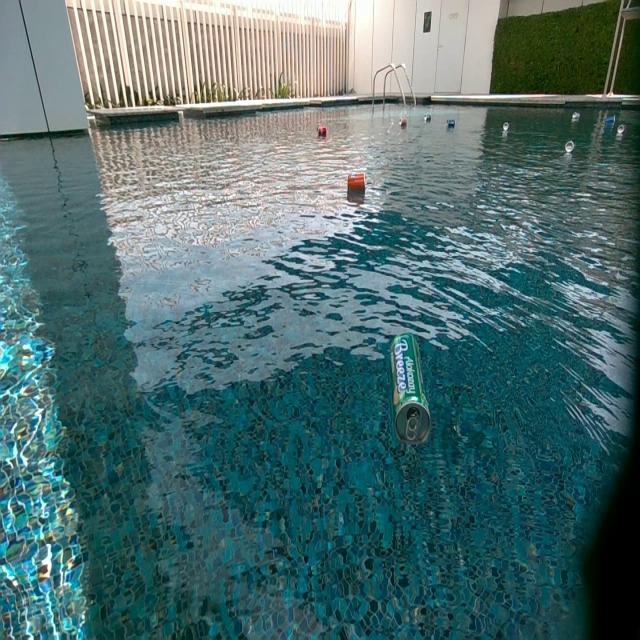Cans: (394, 329, 435, 449), (348, 172, 366, 190), (318, 125, 327, 139), (617, 126, 628, 137), (604, 116, 616, 126), (398, 117, 407, 129), (565, 140, 574, 152), (447, 117, 456, 128), (571, 110, 579, 122), (423, 114, 432, 123), (501, 121, 509, 130)
